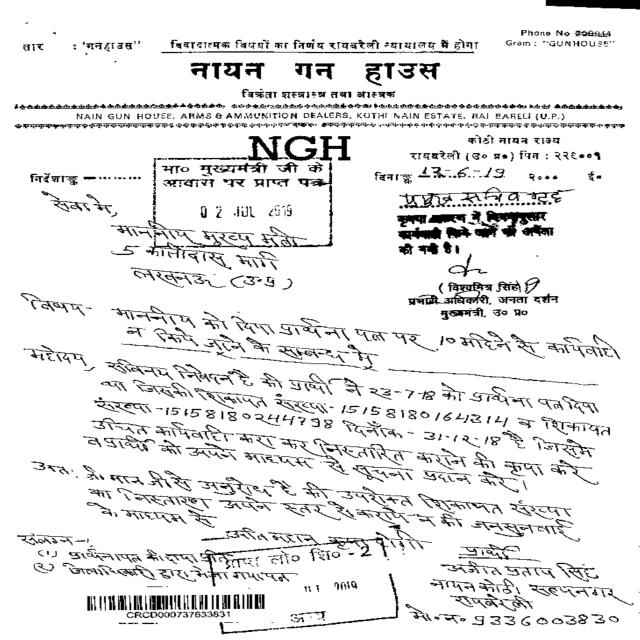antritgovtstamp: (206, 540, 407, 633)
barcode: (73, 584, 273, 623)
jantadarsan: (148, 154, 336, 254)
mohar: (383, 202, 572, 253)
signnamestamp: (393, 255, 570, 329)
